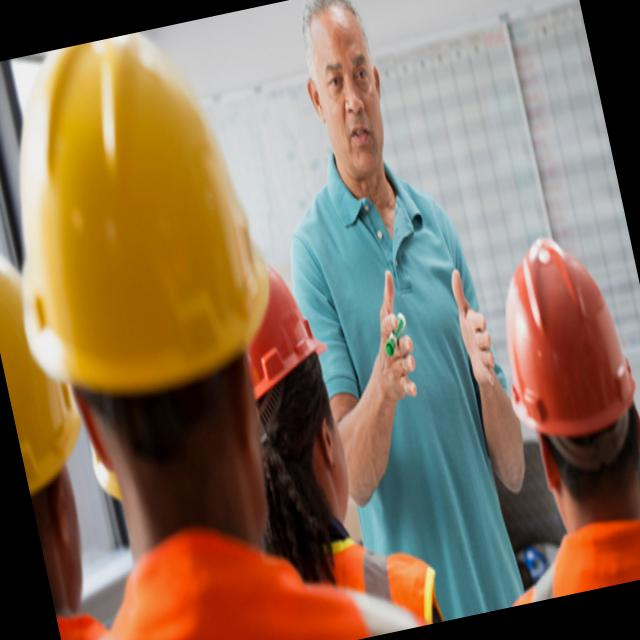helmet: (0, 15, 290, 423), (480, 221, 640, 491), (0, 194, 102, 496), (218, 246, 336, 406)
no-goggles: (306, 48, 391, 112)
no-helmet: (284, 0, 390, 78)
no-vest: (306, 168, 490, 487)
vest: (42, 476, 427, 640), (284, 500, 448, 640), (487, 490, 640, 607), (54, 599, 118, 640)
